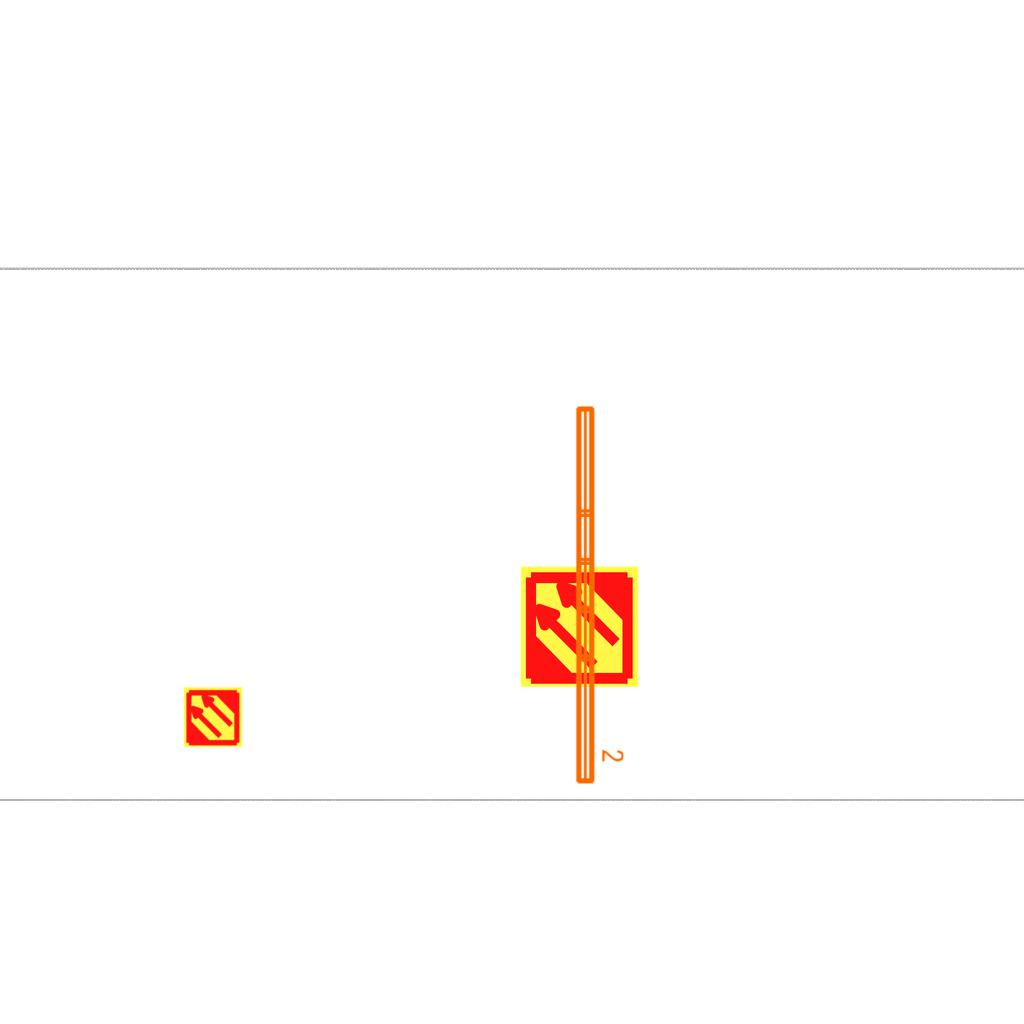ASR_Ansaugrauchmelder: (517, 564, 642, 689), (182, 686, 244, 748)
Ambulanz_Pendelleuchte_LED: (570, 401, 626, 788)
